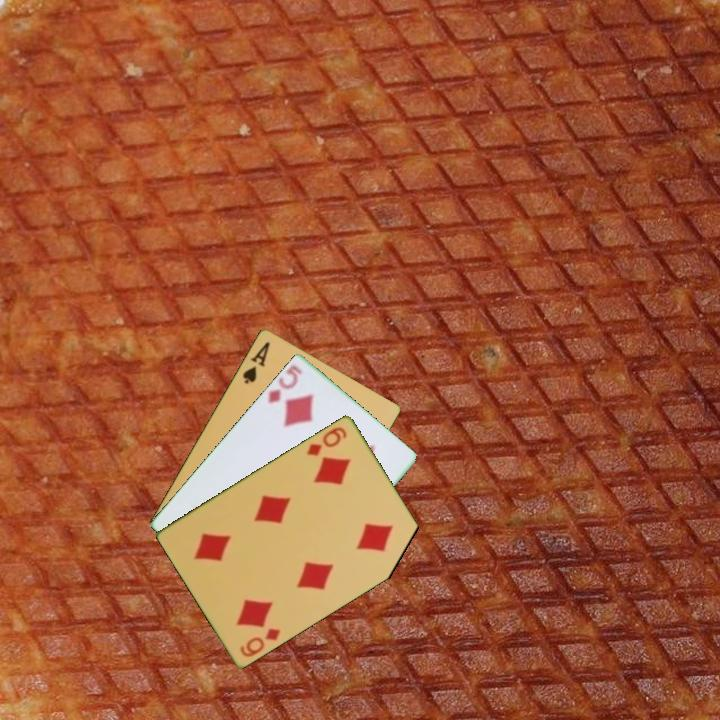5d: (264, 361, 305, 406)
6d: (236, 624, 283, 660), (303, 423, 350, 458)
As: (239, 338, 273, 387)
